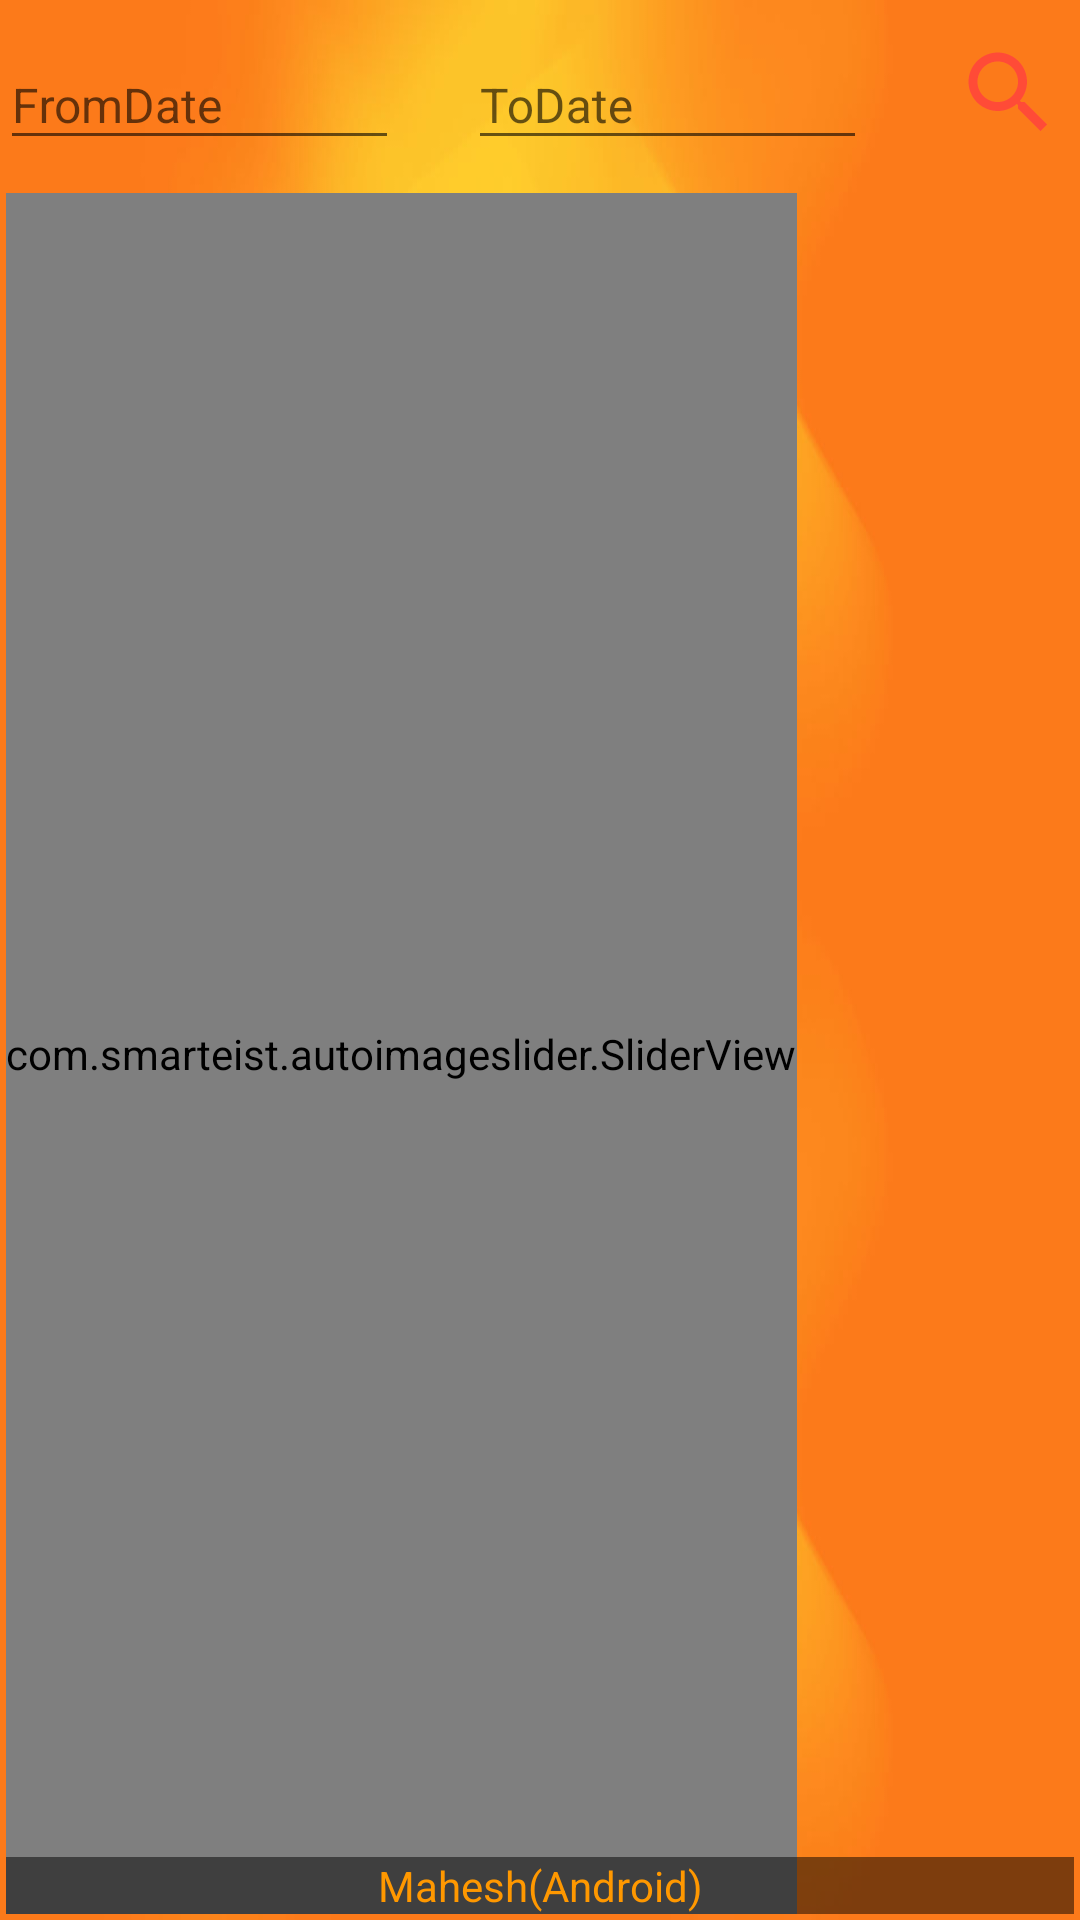

Locate icon controls on the screen. Image size 1080*1920, boxes as (x1, y1, x2, y2).
search: (969, 53, 1047, 131)
